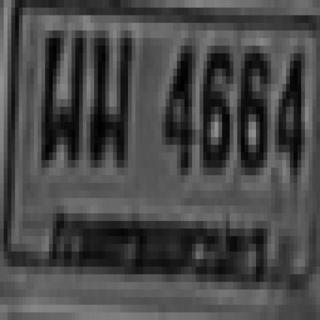A28: (38, 23, 83, 160)
A33: (87, 31, 132, 160)
N04: (162, 38, 192, 168), (275, 46, 301, 168)
N06: (200, 38, 230, 168), (237, 46, 267, 168)
